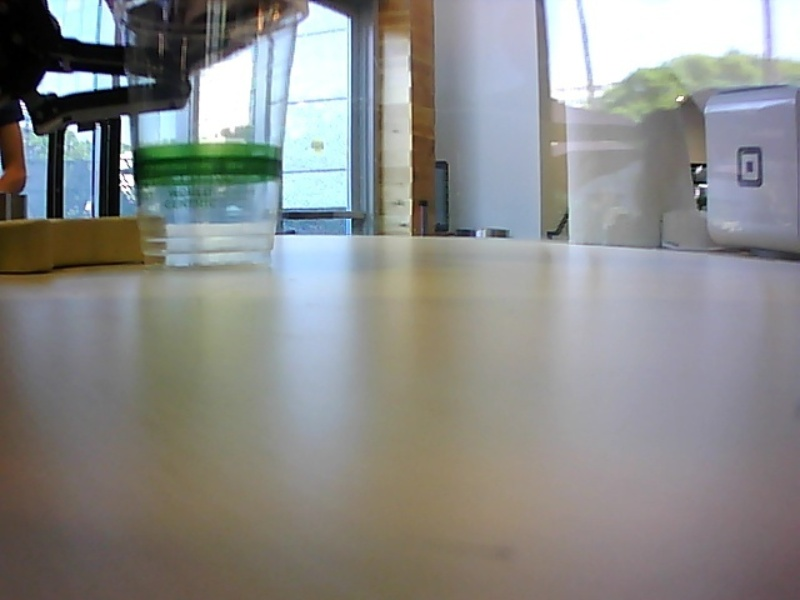cup: (109, 1, 309, 271)
